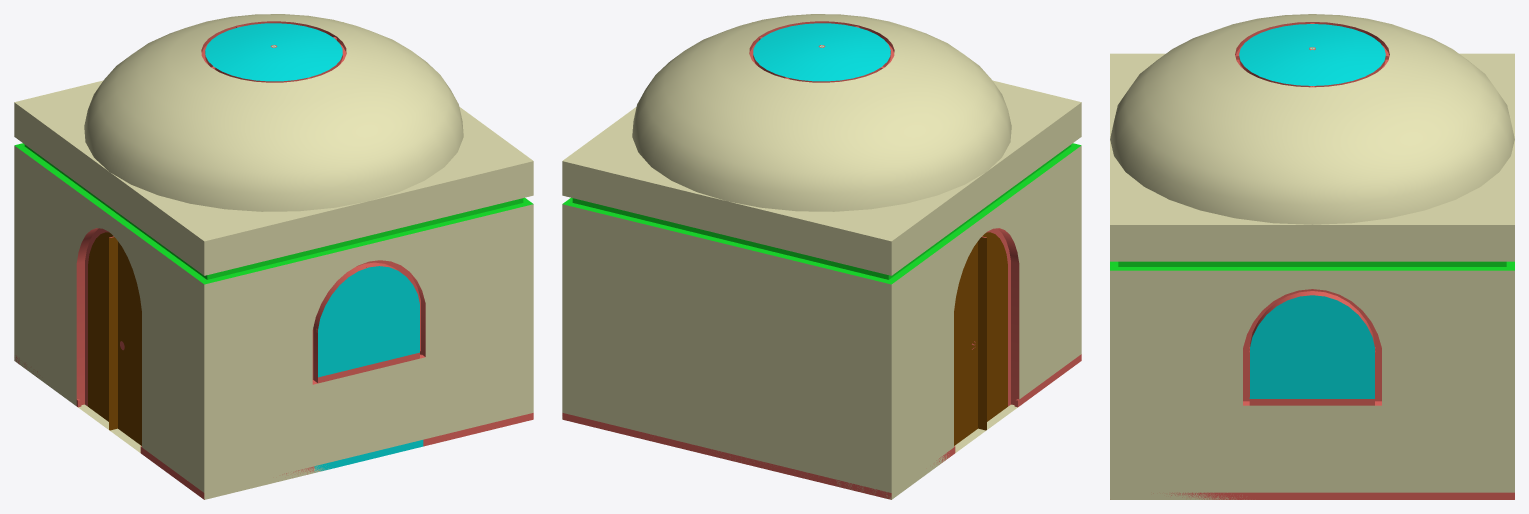
Rendered from kitchen.fbx.
3 views of the same model, side by side, from view 1: azimuth 30°, elevation 25°; view 2: azimuth 150°, elevation 25°; view 3: azimuth 270°, elevation 25° (orthographic). The views are drawn at different scales.
Parts seen in each view (by area): view 1: Walls, Roof; view 2: Walls, Roof; view 3: Walls, Roof.
Boxes of the visible parts, x1=… form: Walls: x1=14, y1=102, x2=533, y2=499; Roof: x1=14, y1=14, x2=532, y2=241; Walls: x1=562, y1=102, x2=1081, y2=499; Roof: x1=563, y1=14, x2=1081, y2=241; Walls: x1=1110, y1=225, x2=1514, y2=499; Roof: x1=1110, y1=14, x2=1514, y2=224.
Bounding box in the file's own units: 400 × 399 × 400.
